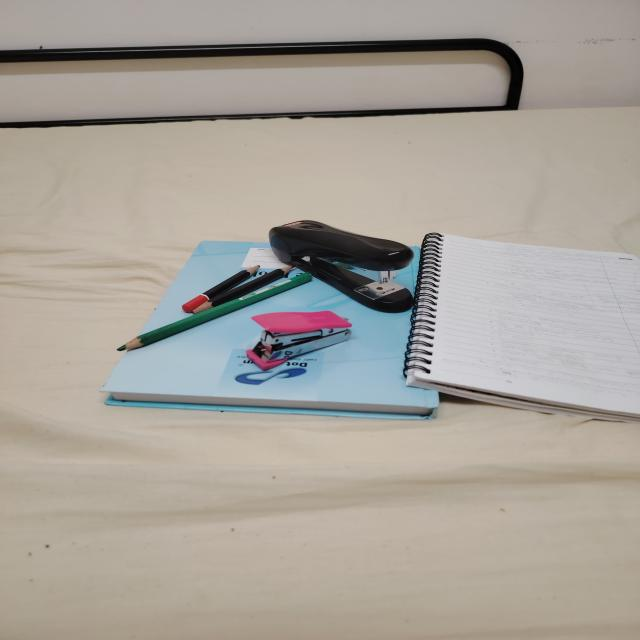pencil: (117, 273, 311, 351), (193, 266, 292, 313), (182, 266, 258, 313)
stapler: (269, 220, 414, 313), (246, 311, 352, 371)
